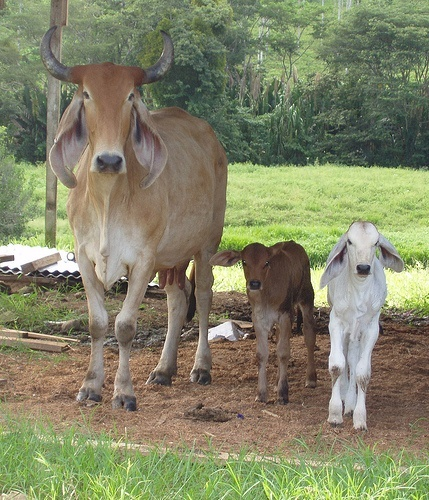cow: (39, 26, 229, 412), (318, 221, 408, 435), (211, 240, 319, 408)
